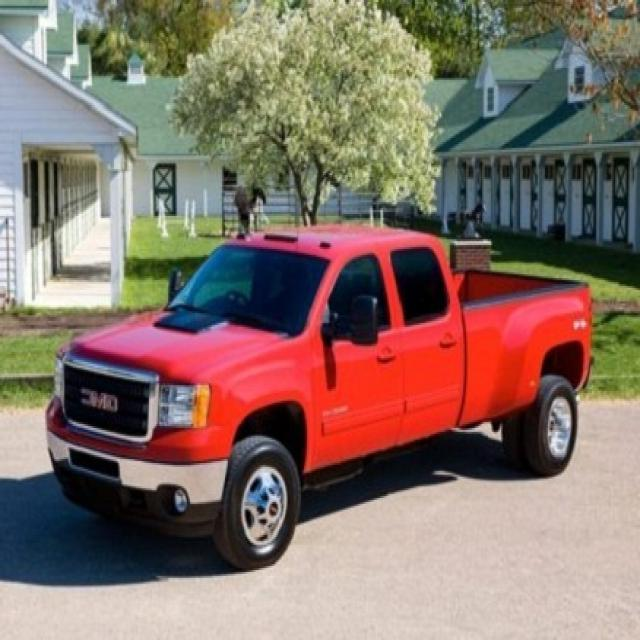Pick-up-van: (28, 195, 621, 591)
